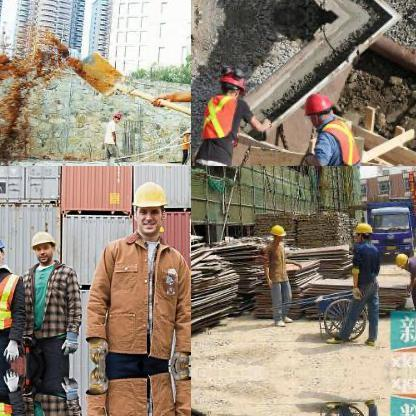Helmet: (132, 178, 166, 236), (214, 64, 246, 98), (302, 90, 338, 120), (30, 230, 54, 260), (352, 218, 372, 238), (266, 223, 286, 242), (390, 250, 410, 268), (110, 110, 122, 122)
